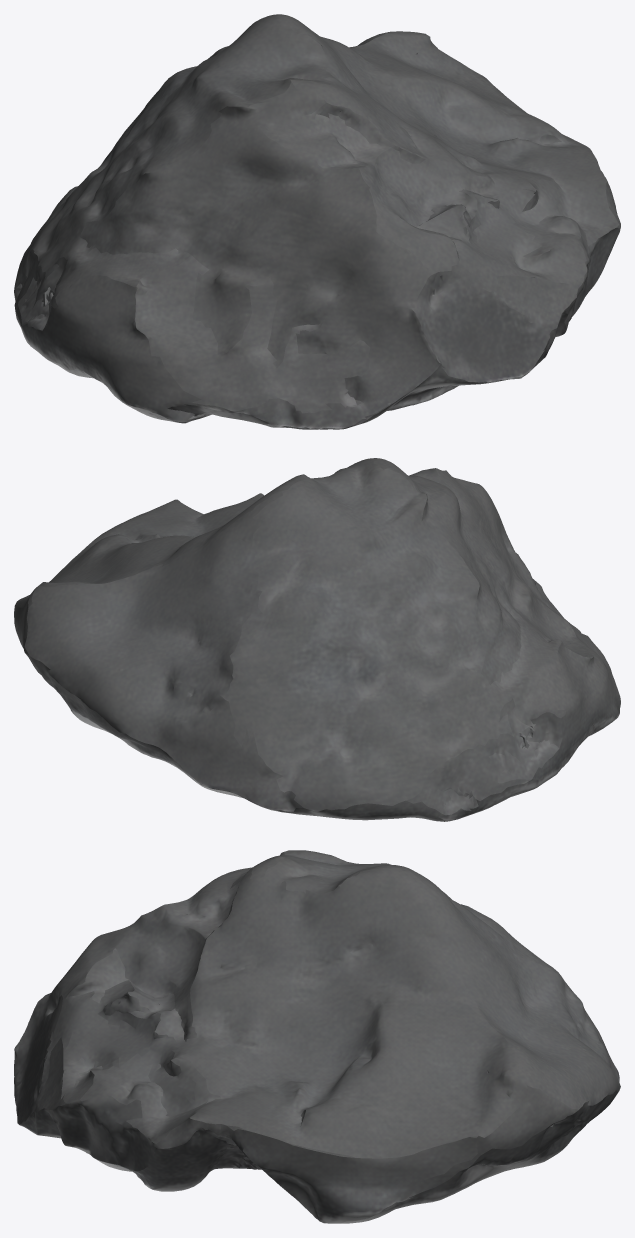
3 views of the same model, one above another, from view 1: azimuth 30°, elevation 25°; view 2: azimuth 150°, elevation 25°; view 3: azimuth 270°, elevation 25° (orthographic). The views are drawn at different scales.
Parts seen in each view (by area): view 1: world; view 2: world; view 3: world.
Part boxes in pixels (left/top/right/bottom): world: left=14, top=14, right=620, bottom=429; world: left=14, top=458, right=620, bottom=821; world: left=14, top=850, right=620, bottom=1223.
Size of the model in its own units: 1.2 by 0.5861 by 1.2.
1 material, 1 textured.
